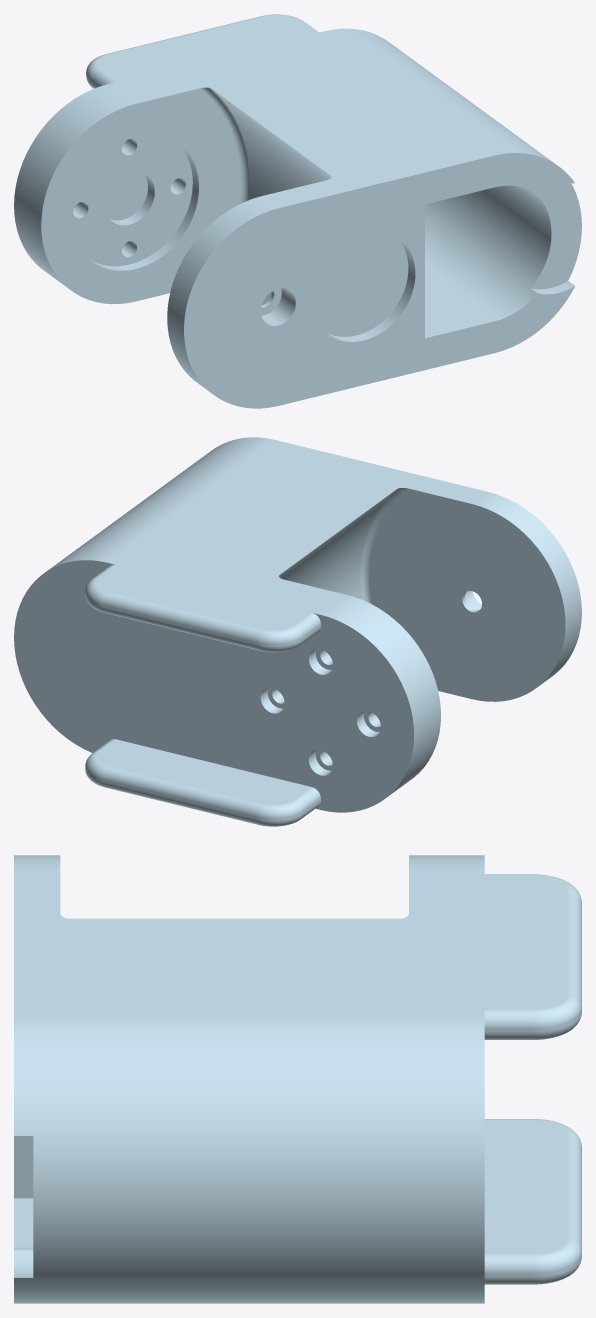
Rendered from _MjBLMIiEhsJtWdrHk.gltf.
3 views of the same model, one above another, from view 1: azimuth 30°, elevation 25°; view 2: azimuth 150°, elevation 25°; view 3: azimuth 270°, elevation 25° (orthographic). The views are drawn at different scales.
Visible parts, largest first — view 1: SnakeFront; view 2: SnakeFront; view 3: SnakeFront.
Boxes of the visible parts, left/top/right/bottom form: SnakeFront: left=14, top=14, right=581, bottom=408; SnakeFront: left=14, top=437, right=581, bottom=826; SnakeFront: left=14, top=855, right=581, bottom=1303.
Size of the model in its own units: 0.0665 by 0.031 by 0.0583.
